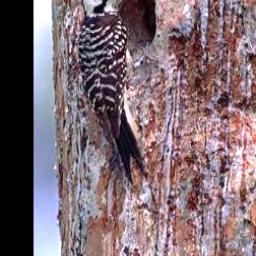Woodpecker: (78, 0, 145, 183)
